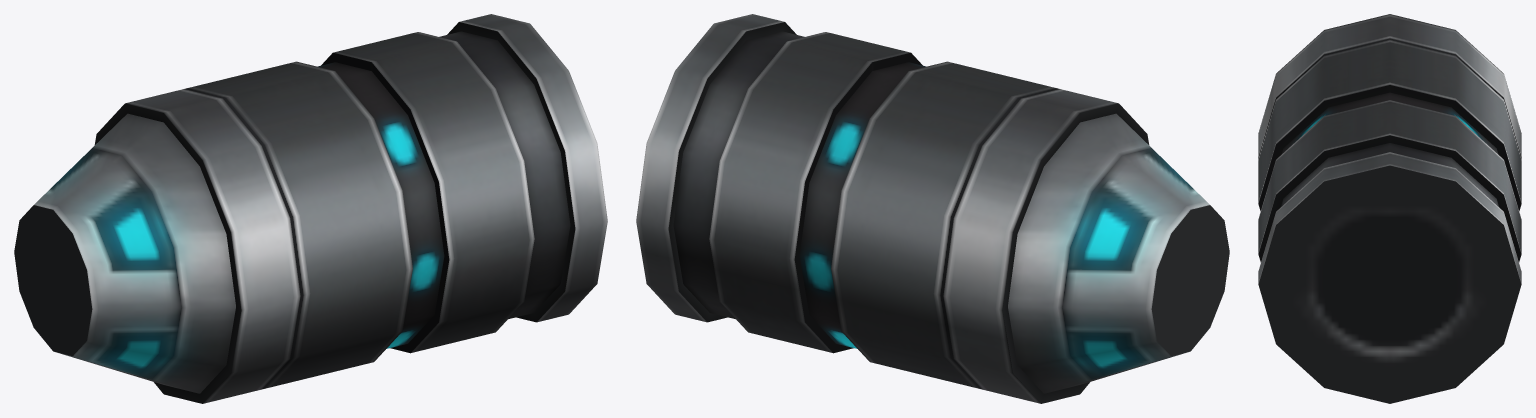
Rendered from Legend_ElectronAccelerator_Base_4_Mod.FBX.
The picture shows the model from 3 angles, left to right: view 1: azimuth 30°, elevation 25°; view 2: azimuth 150°, elevation 25°; view 3: azimuth 270°, elevation 25°; orthographic projection. The views are drawn at different scales.
Parts seen in each view (by area): view 1: Legend_ElectronAccelerator_Base_4_Mod; view 2: Legend_ElectronAccelerator_Base_4_Mod; view 3: Legend_ElectronAccelerator_Base_4_Mod.
Part boxes in pixels (x1=…): Legend_ElectronAccelerator_Base_4_Mod: x1=14, y1=14, x2=607, y2=403; Legend_ElectronAccelerator_Base_4_Mod: x1=636, y1=14, x2=1229, y2=403; Legend_ElectronAccelerator_Base_4_Mod: x1=1258, y1=14, x2=1521, y2=403.
Size of the model in its own units: 22.37 by 12.61 by 12.61.
